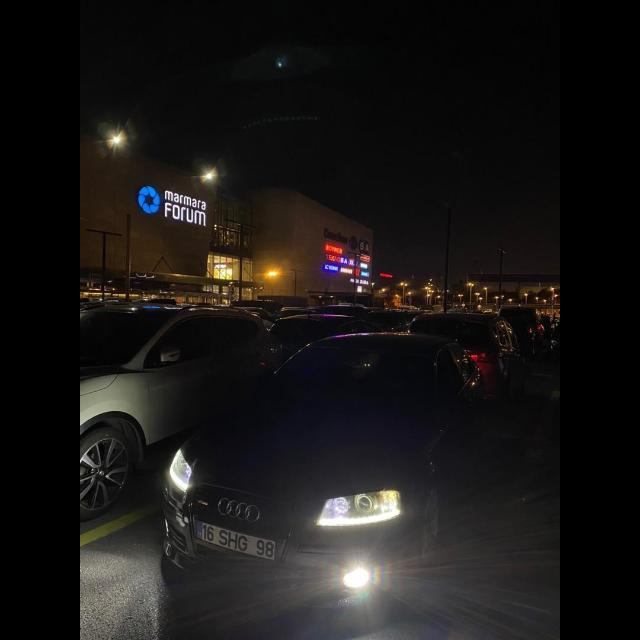Plaka: (196, 520, 274, 560)
